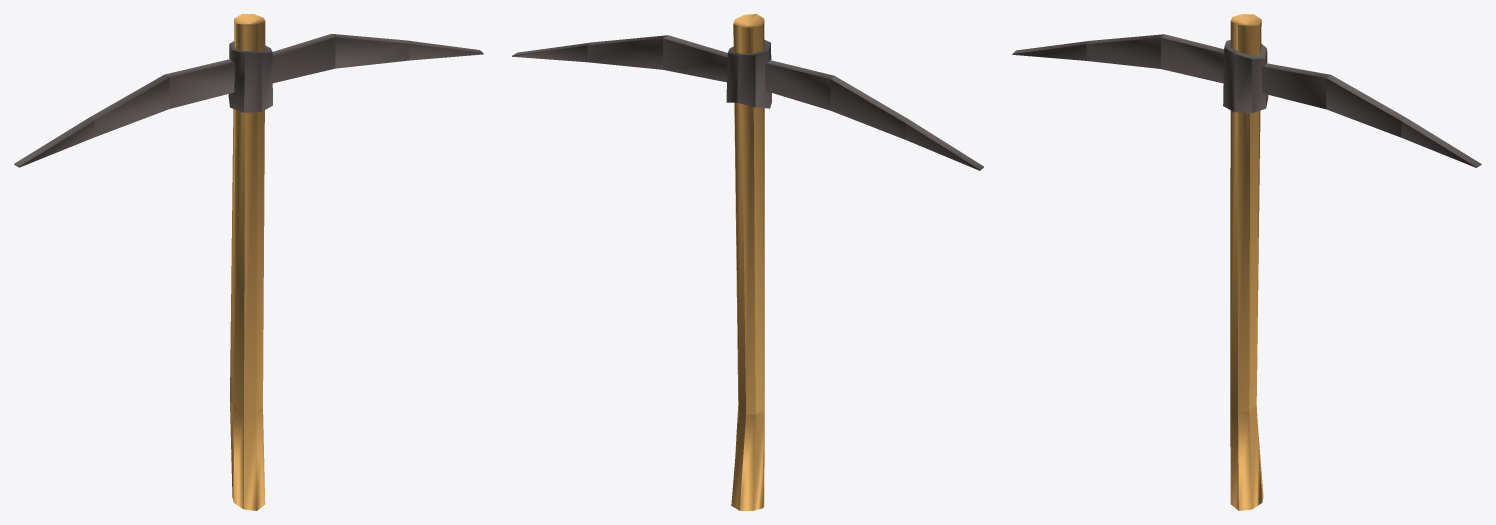
Rendered from PickAxe 2.fbx.
3 renders of one model, left to right at view 1: azimuth 30°, elevation 25°; view 2: azimuth 150°, elevation 25°; view 3: azimuth 330°, elevation 25°, orthographic.
Visible parts, largest first — view 1: PickAxe 2; view 2: PickAxe 2; view 3: PickAxe 2.
Boxes of the visible parts, x1=… form: PickAxe 2: x1=14, y1=14, x2=483, y2=510; PickAxe 2: x1=512, y1=14, x2=983, y2=510; PickAxe 2: x1=1012, y1=14, x2=1481, y2=510.
Bounding box in the file's own units: 118 × 118 × 9.81.
